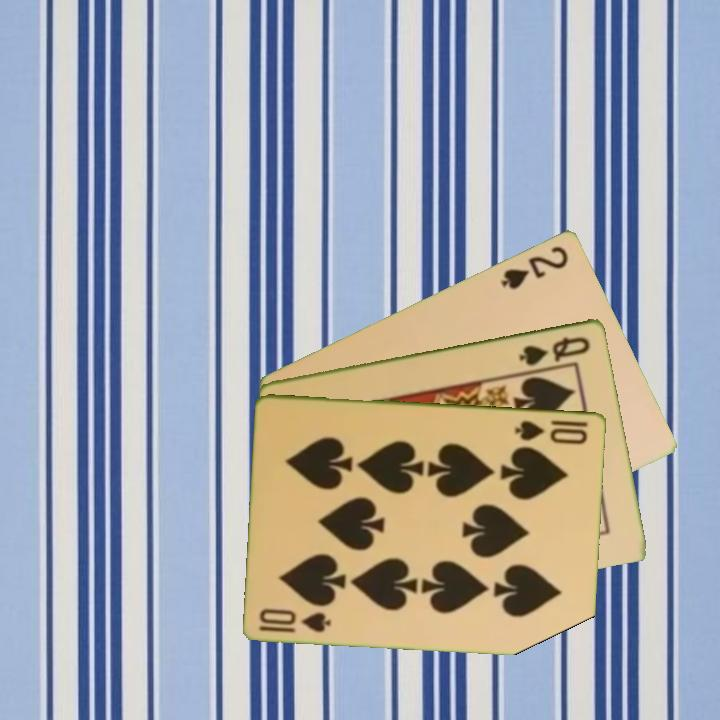10s: (511, 417, 591, 447), (256, 605, 335, 635)
2s: (497, 242, 572, 292)
Qs: (516, 332, 593, 369)
